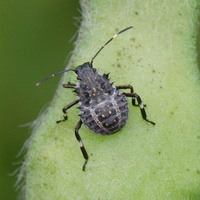insect: (36, 26, 154, 170)
